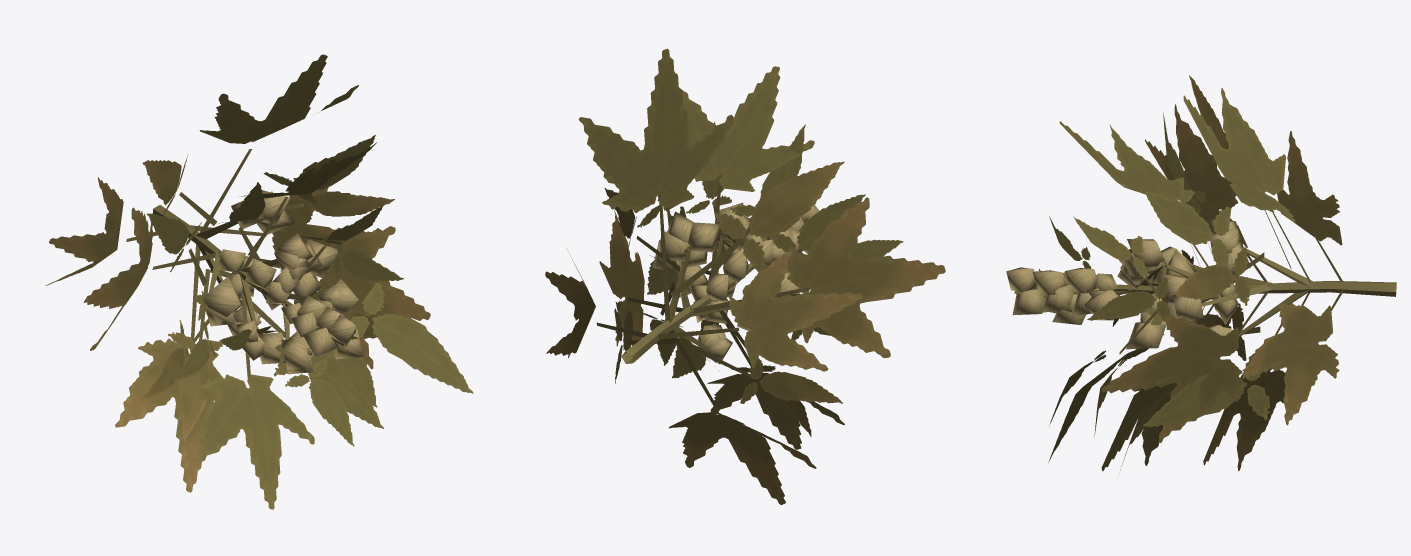
File: p_male_auto_ripe_c2_cards.obj
The picture shows the model from 3 angles, left to right: view 1: azimuth 30°, elevation 25°; view 2: azimuth 150°, elevation 25°; view 3: azimuth 270°, elevation 25°; orthographic projection. The views are drawn at different scales.
Size of the model in its own units: 1.28 by 1.48 by 0.988.
Materials: 1 (1 with a texture image).
